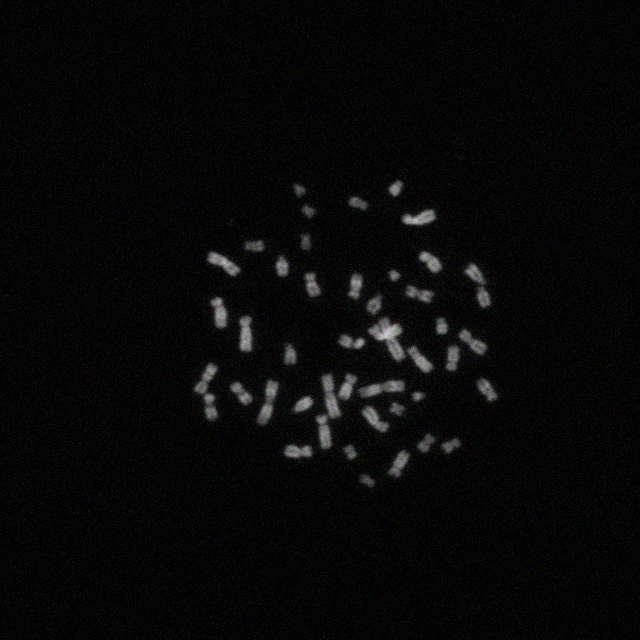chromosome: (378, 316, 406, 362), (256, 380, 278, 424), (322, 374, 341, 418), (359, 380, 405, 398), (207, 252, 240, 276), (195, 363, 218, 395), (458, 329, 486, 355), (361, 406, 389, 432), (408, 346, 432, 372), (388, 449, 409, 478), (230, 381, 253, 405), (402, 209, 436, 225), (368, 324, 402, 340), (210, 298, 228, 328), (238, 314, 252, 352), (338, 372, 357, 400), (418, 251, 442, 273), (405, 284, 433, 302), (463, 263, 485, 285), (477, 378, 497, 402), (316, 416, 330, 448), (284, 444, 312, 458), (304, 272, 320, 296), (204, 394, 218, 421), (338, 334, 364, 348), (348, 274, 362, 300), (366, 294, 382, 314), (293, 396, 313, 412), (477, 286, 491, 308), (446, 346, 458, 370), (442, 438, 460, 454), (418, 434, 434, 452), (348, 196, 368, 210), (276, 255, 288, 277), (284, 344, 296, 364), (389, 181, 403, 197), (359, 474, 375, 488), (244, 240, 264, 250), (390, 402, 404, 416), (343, 445, 357, 459), (437, 318, 448, 334), (412, 390, 426, 402), (302, 204, 314, 218), (293, 183, 305, 197), (301, 234, 311, 250), (388, 270, 400, 282)
